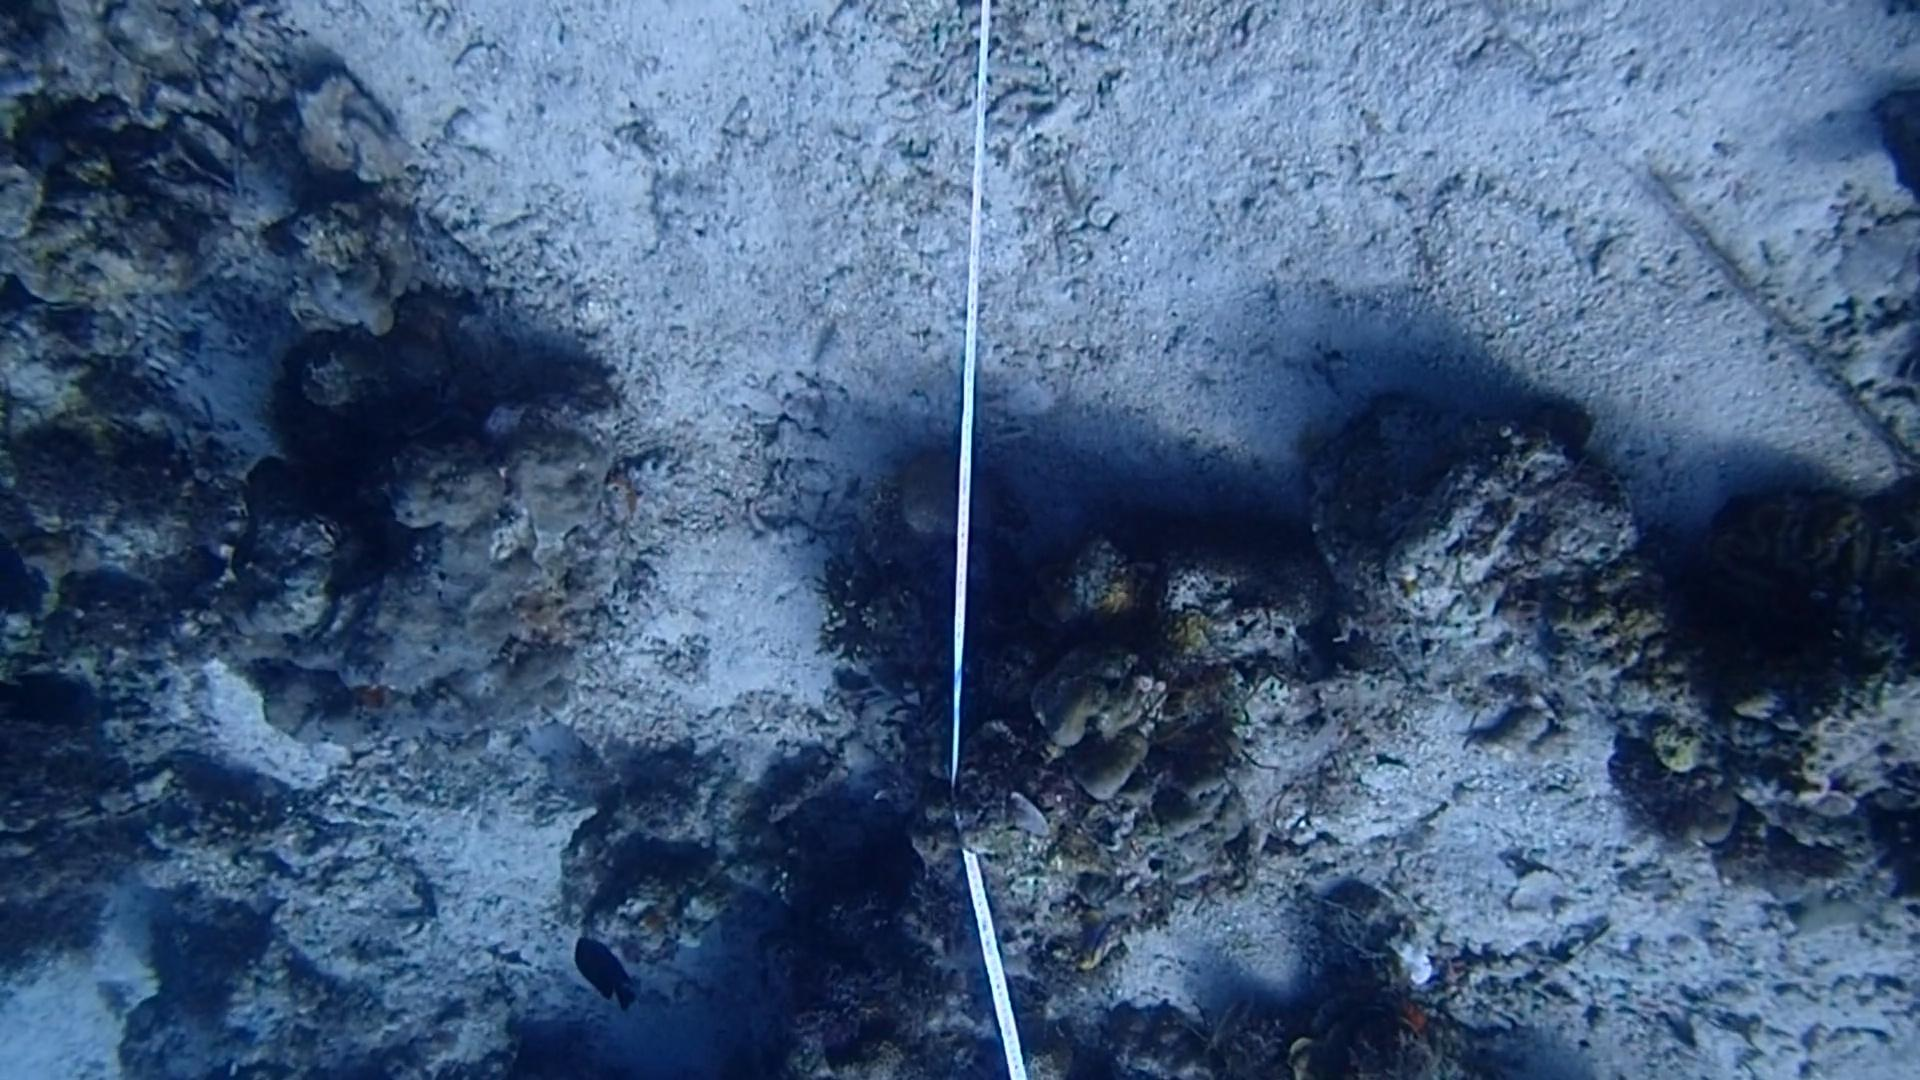Dark Fish: (570, 935, 640, 1022), (0, 663, 83, 732)
Light Fish: (1201, 984, 1265, 1056)
